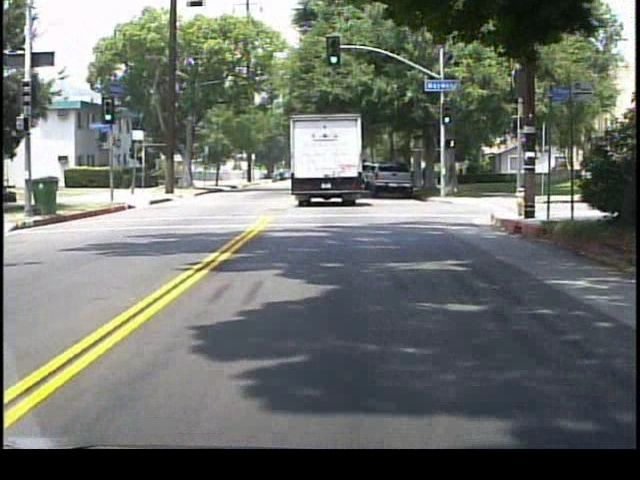person: (421, 166, 429, 186)
